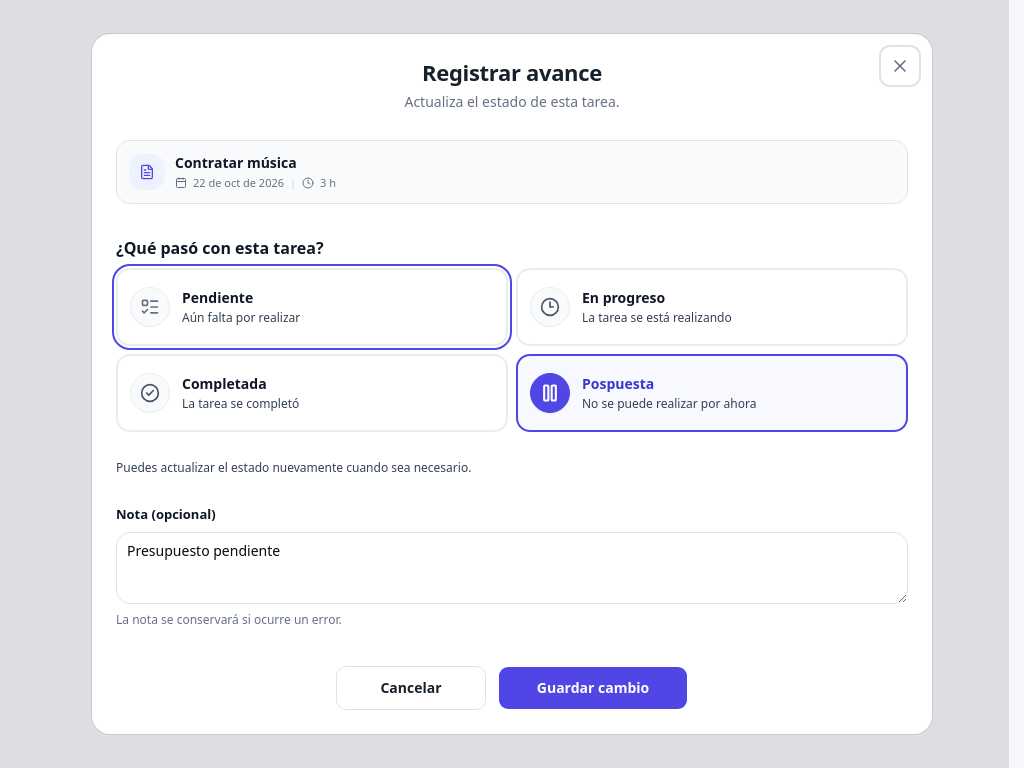
RegisterProgressDialog › guarda el avance como Pospuesta exitosamente y muestra la descripción correspondiente
Step 1. Click the button "Guardar cambio" → (593, 688), box [498, 666, 688, 710]
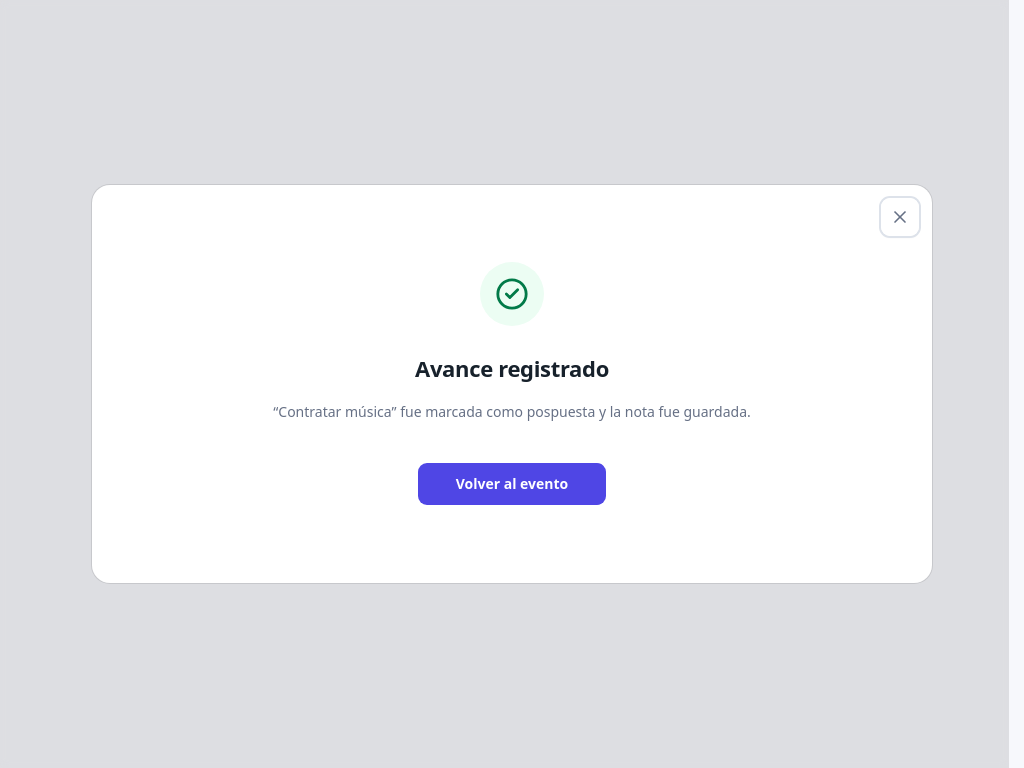
Now the heading "Avance registrado" is shown, box [415, 354, 609, 382]
Now the text "“Contratar música” fue marcada como pospuesta y la nota fue guardada." is shown, box [273, 402, 751, 422]
